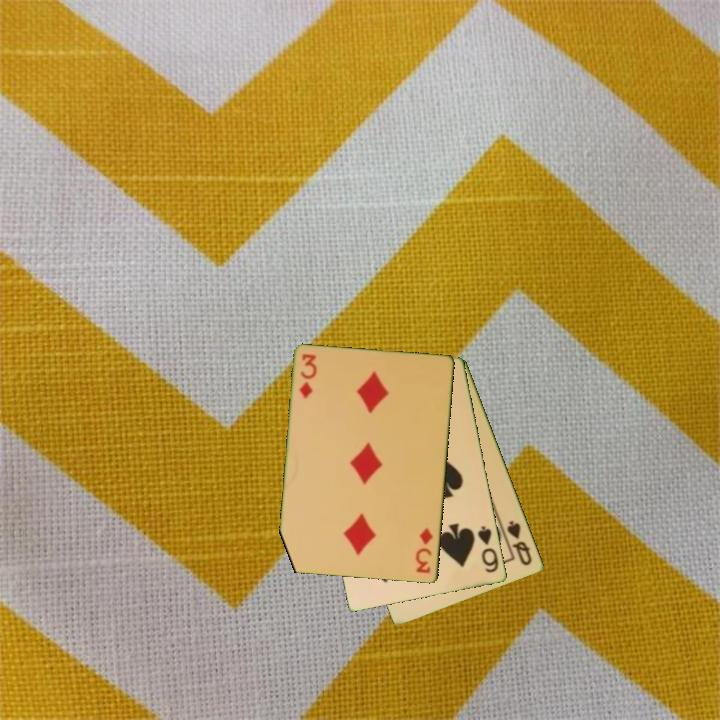3d: (413, 525, 436, 577), (296, 351, 319, 402)
6s: (475, 523, 502, 576)
Qs: (504, 517, 535, 569)
